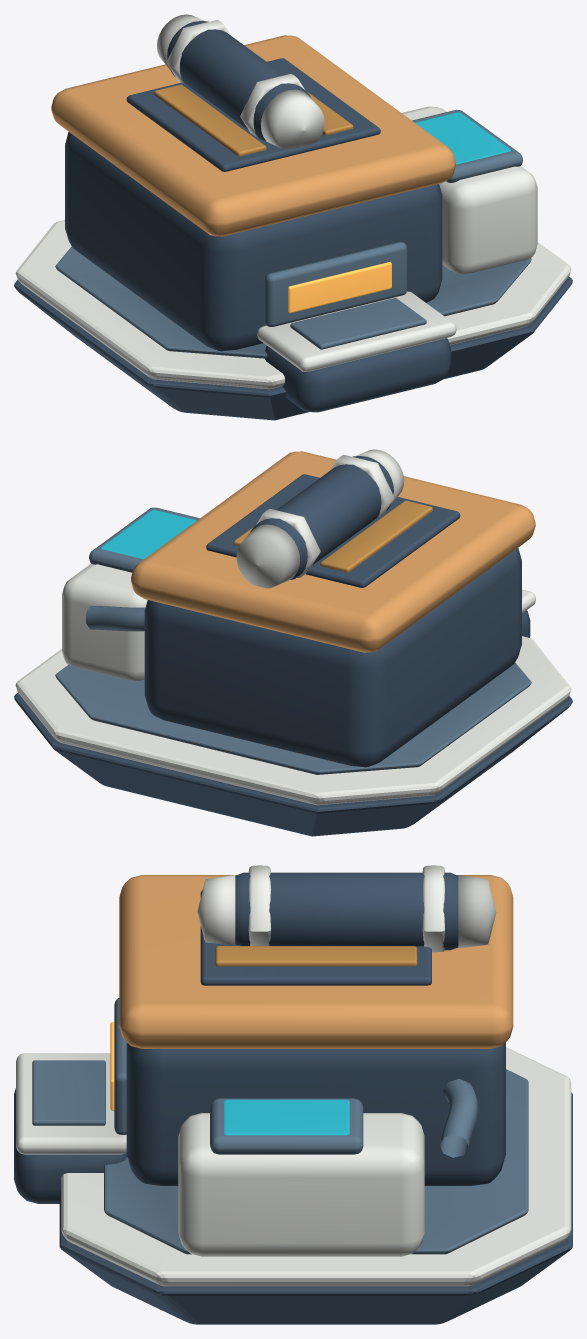
File: interstellar_refinery_lv1.glb
The picture shows the model from 3 angles, top to bottom: view 1: azimuth 30°, elevation 25°; view 2: azimuth 150°, elevation 25°; view 3: azimuth 270°, elevation 25°; orthographic projection. The views are drawn at different scales.
Visible parts, largest first — view 1: Structure; view 2: Structure; view 3: Structure.
Part boxes in pixels (<box>): Structure: <box>14,14,572,420</box>; Structure: <box>14,449,572,836</box>; Structure: <box>14,865,572,1324</box>.
Bounding box in the file's own units: 5.9 × 3.74 × 5.68.
